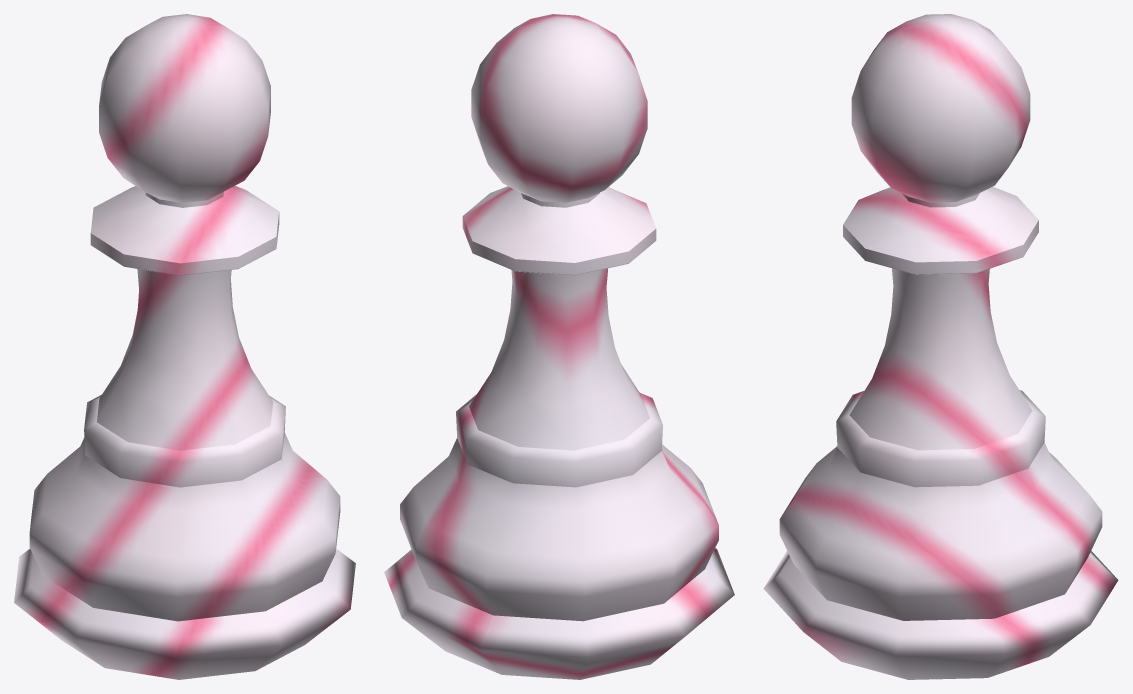
The model's file is item-0-4.glb.
3 views of the same model, side by side, from view 1: azimuth 30°, elevation 25°; view 2: azimuth 150°, elevation 25°; view 3: azimuth 270°, elevation 25° (orthographic).
Parts seen in each view (by area): view 1: BlackPawn; view 2: BlackPawn; view 3: BlackPawn.
Part boxes in pixels (x1,y1,x2,y2): BlackPawn: (14, 14, 355, 679); BlackPawn: (384, 14, 734, 679); BlackPawn: (763, 14, 1118, 679).
Size of the model in its own units: 0.0889 by 0.1731 by 0.0918.
1 material, 1 textured.
